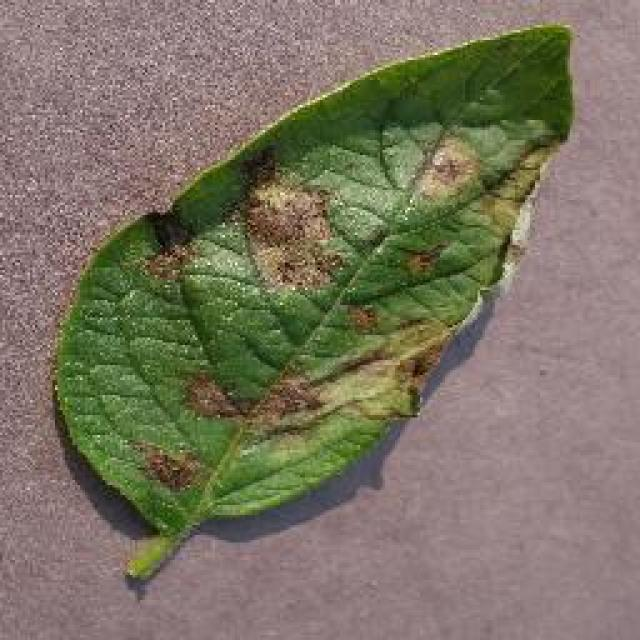late_blight: (48, 18, 580, 588)
